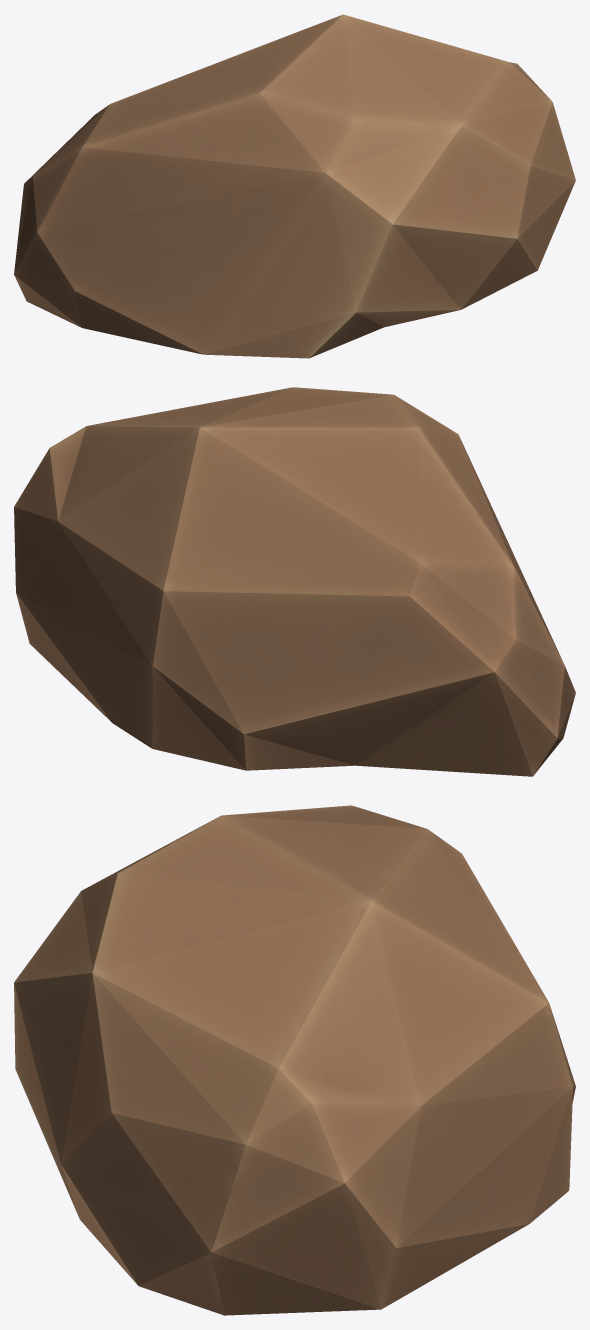
The model's file is Rock_36.fbx.
3 views of the same model, one above another, from view 1: azimuth 30°, elevation 25°; view 2: azimuth 150°, elevation 25°; view 3: azimuth 270°, elevation 25° (orthographic). The views are drawn at different scales.
Parts seen in each view (by area): view 1: Rock_36; view 2: Rock_36; view 3: Rock_36.
Boxes of the visible parts, bbox=[...] form: Rock_36: bbox=[14, 14, 575, 358]; Rock_36: bbox=[14, 387, 575, 776]; Rock_36: bbox=[14, 805, 575, 1315].
Size of the model in its own units: 39.56 by 27.83 by 16.92.
